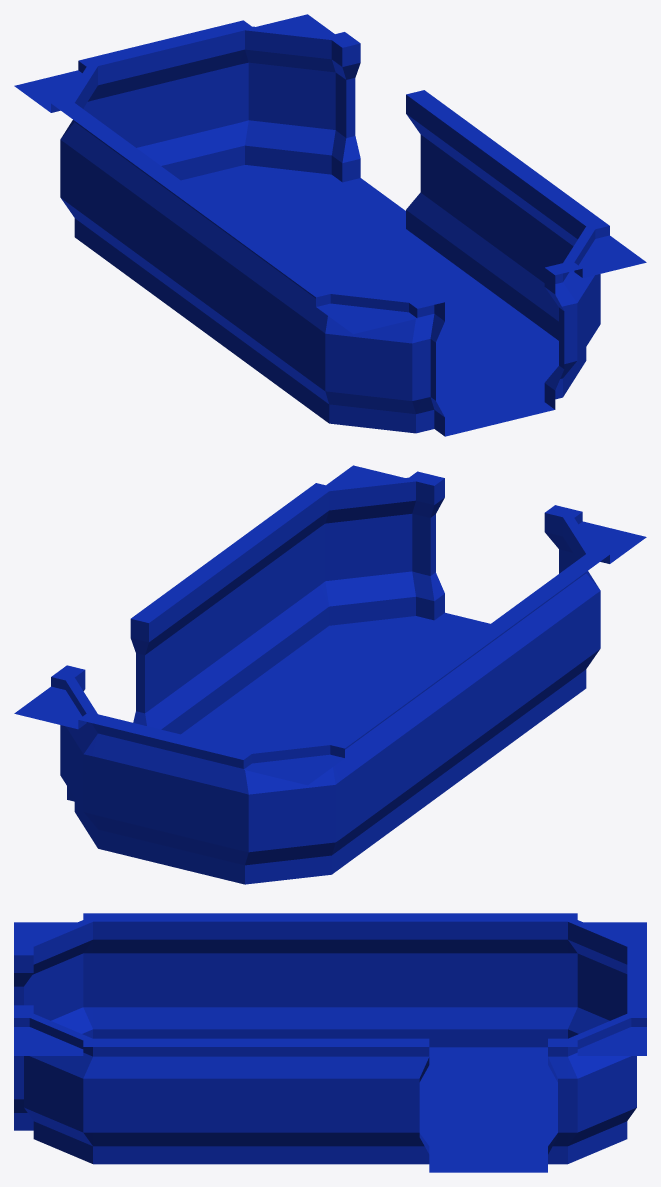
File: 2x1_Corner01.FBX
3 views of the same model, one above another, from view 1: azimuth 30°, elevation 25°; view 2: azimuth 150°, elevation 25°; view 3: azimuth 270°, elevation 25° (orthographic). The views are drawn at different scales.
Parts seen in each view (by area): view 1: 2x1_Corner1; view 2: 2x1_Corner1; view 3: 2x1_Corner1.
Part boxes in pixels (x1,y1,x2,y2): 2x1_Corner1: (14,14,646,436); 2x1_Corner1: (14,465,646,884); 2x1_Corner1: (14,913,646,1172).
Size of what is drawn, in the model's own units: 800 by 350 by 1600.
